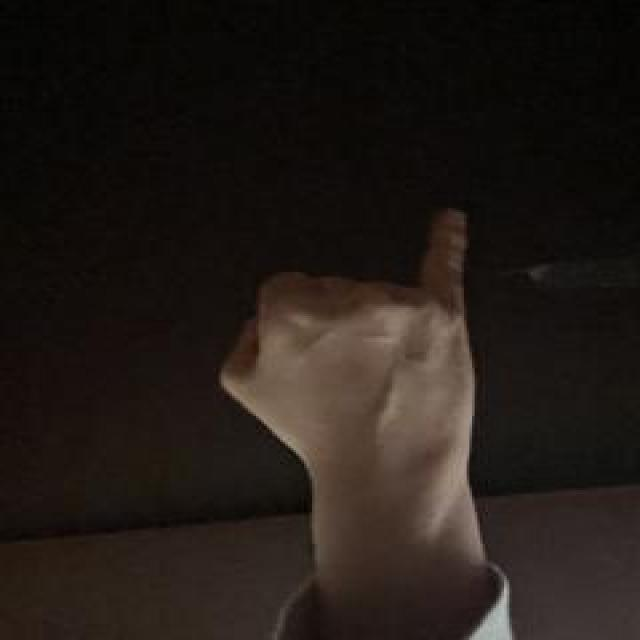I: (209, 200, 482, 486)
